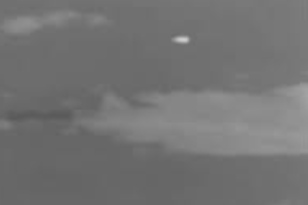Target: (172, 37, 188, 43)
